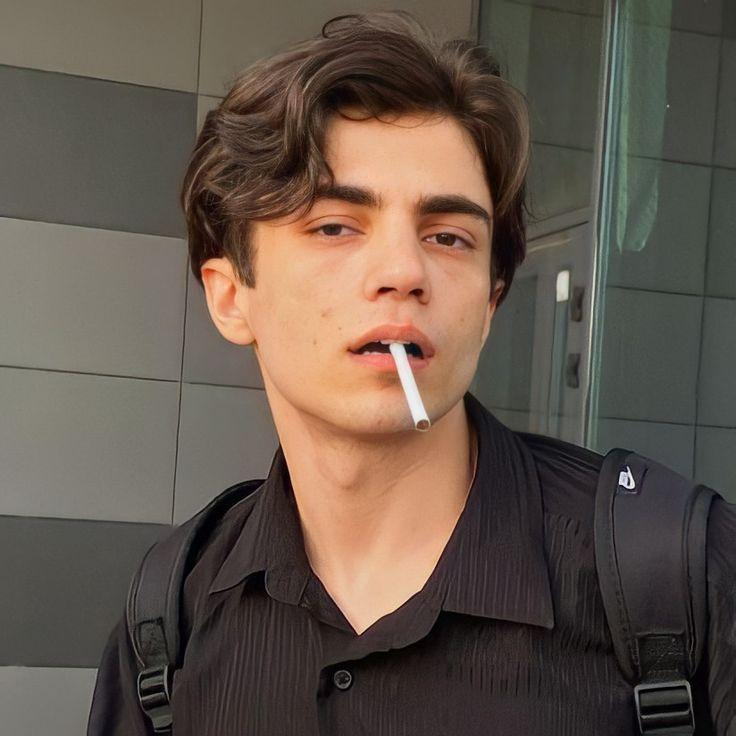cigarette: (389, 344, 430, 432)
